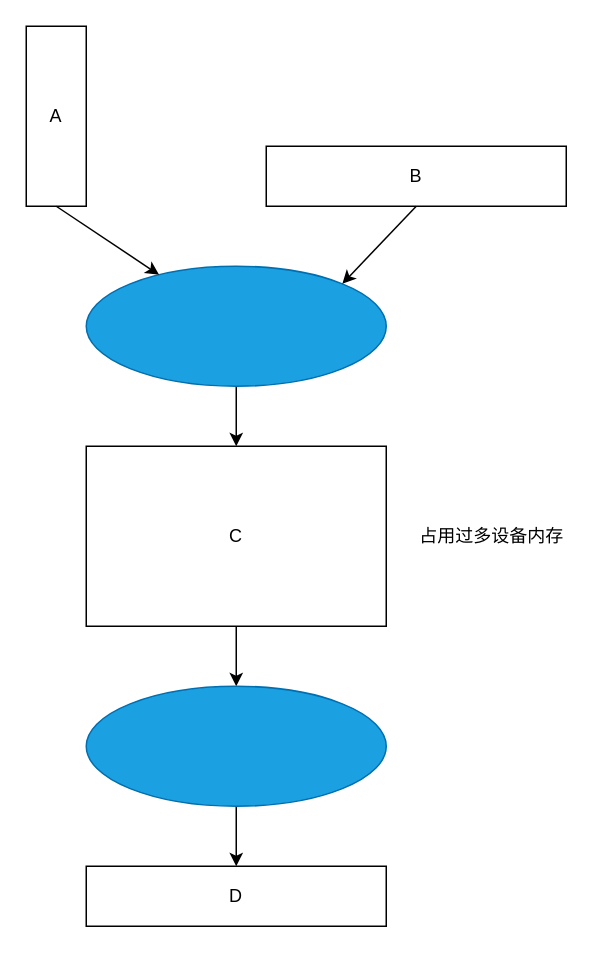
This 608x953 diagram has some shape labels left out. The shapes that lost their labels are listed below. From the top down, each one's centre as x and y in pixels, then its label:
At pixel 235 325: "Matmul".
At pixel 235 745: "Reduce(dim=1)".
